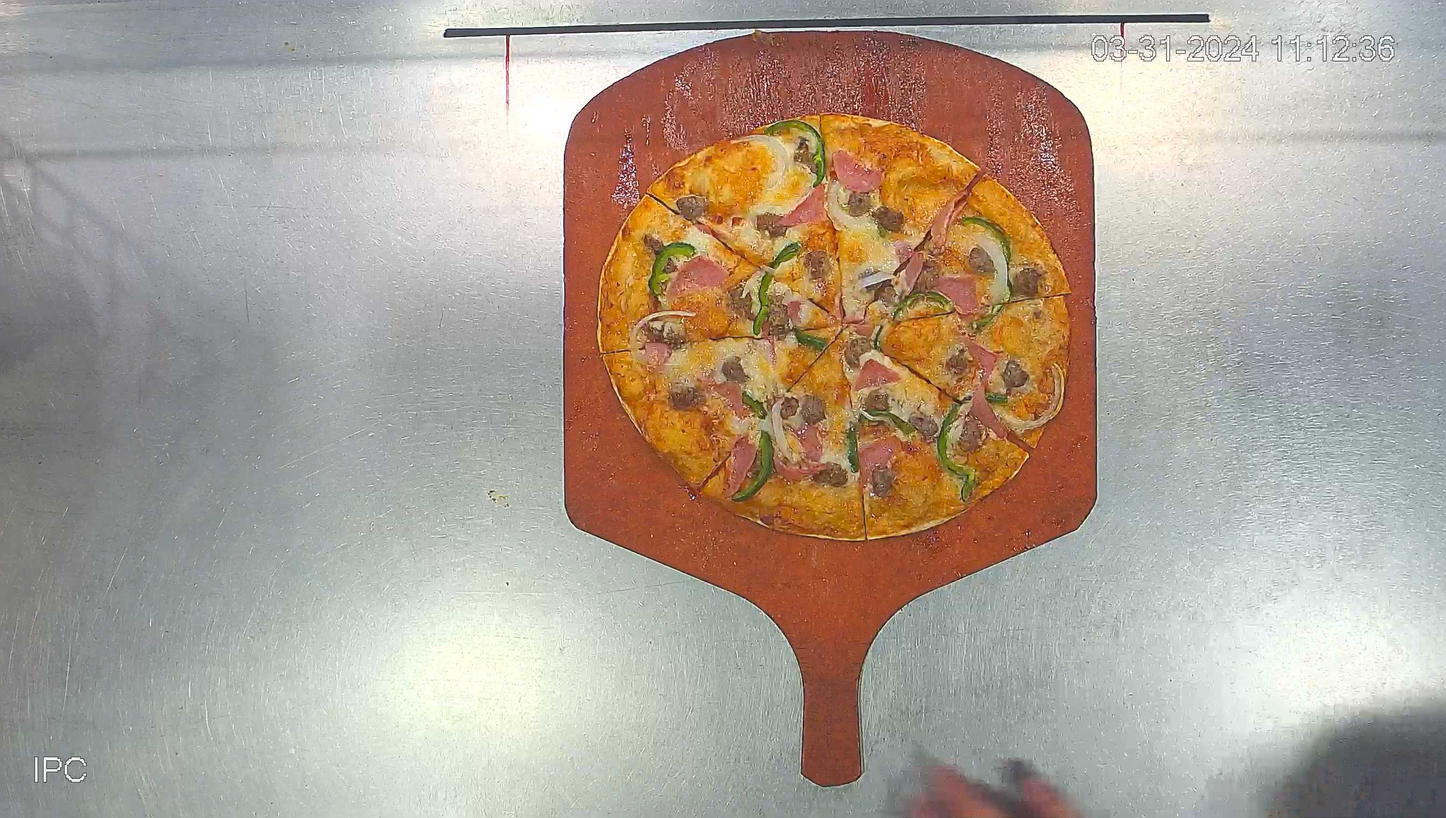hawaiian: (597, 112, 1072, 541)
